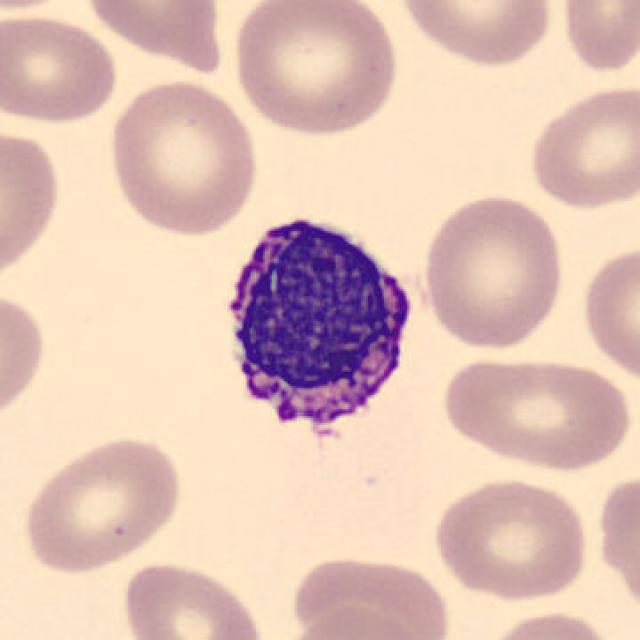Basophil: (205, 197, 426, 469)
RBC: (105, 74, 261, 240), (18, 430, 186, 577), (436, 351, 636, 474), (227, 0, 403, 139), (418, 188, 567, 352), (428, 472, 594, 603), (524, 81, 638, 212), (286, 550, 454, 638), (0, 9, 123, 127), (119, 555, 269, 640), (395, 0, 558, 69), (0, 122, 66, 289), (80, 0, 229, 71), (578, 238, 640, 388), (592, 465, 640, 626), (0, 284, 50, 430), (555, 0, 638, 78), (278, 603, 430, 640), (476, 606, 623, 640), (0, 0, 85, 16)
